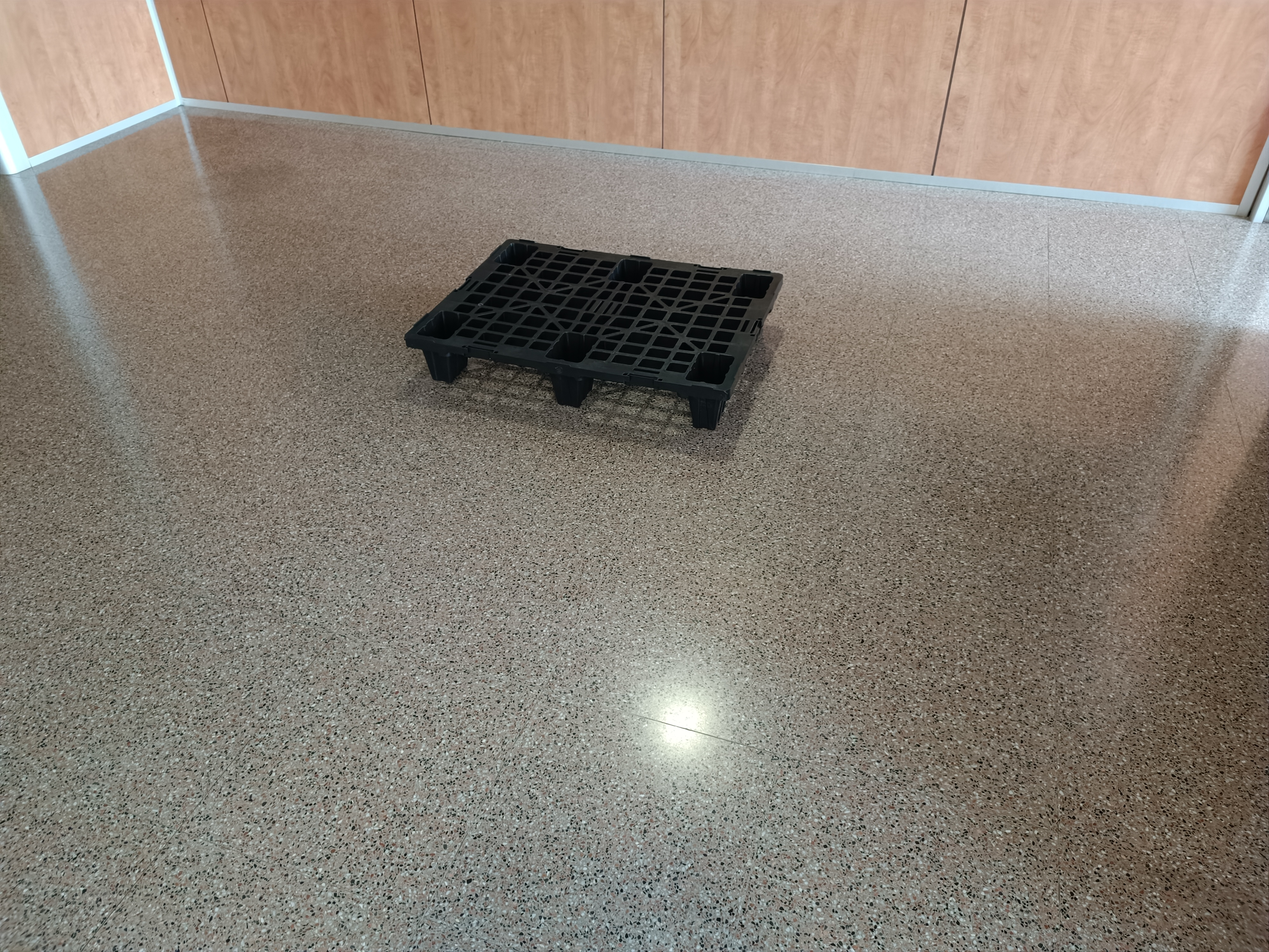block: (546, 365, 593, 405), (682, 389, 726, 431), (422, 348, 464, 383)
front: (400, 334, 731, 442)
hole pallet: (584, 374, 690, 428), (455, 350, 551, 401)
